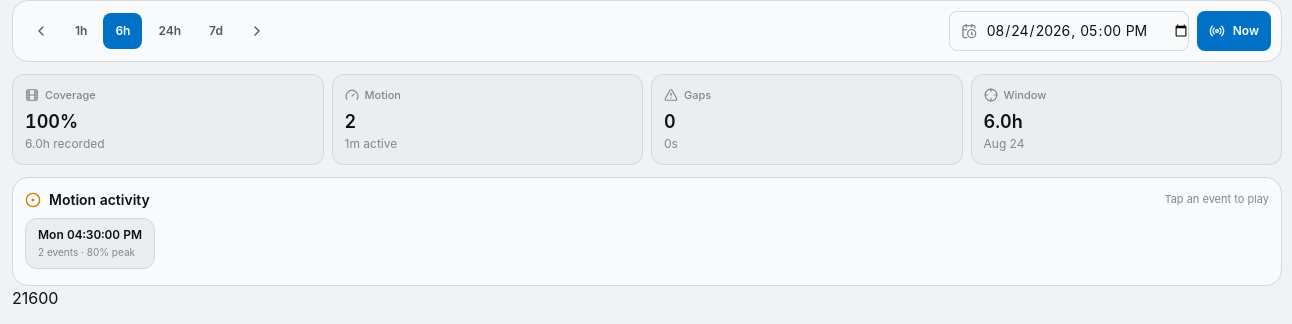
TimelineNavigator › switches between useful time windows without a date calculation form
The width and height of the screenshot is (1292, 324).
Click the button "24h": [170, 31] box [146,13,193,49]
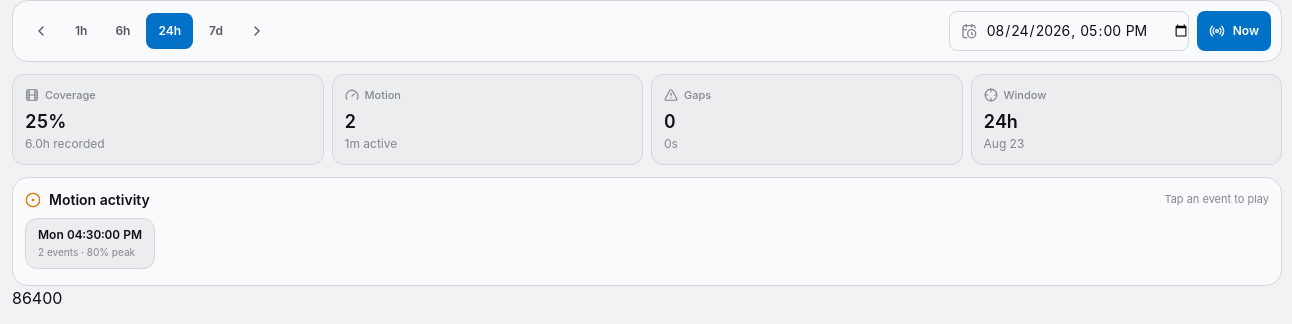
Expected: the text with test id "width" reads "86400", [12,288,62,308]
